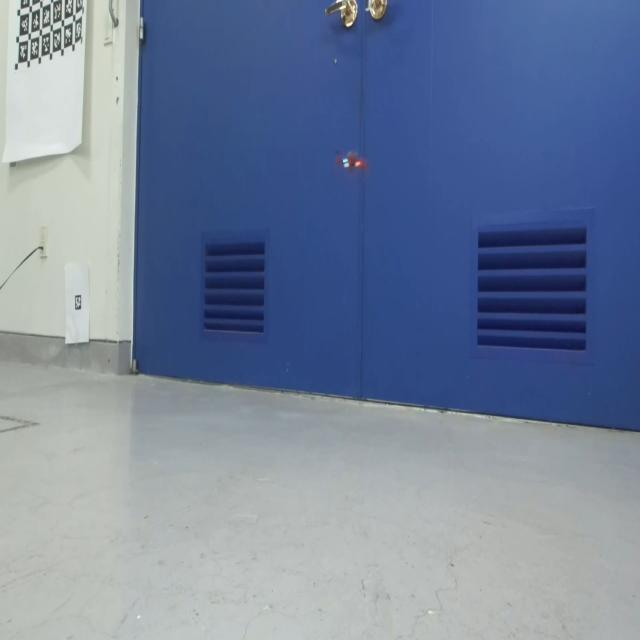crazyflie: (334, 142, 370, 182)
